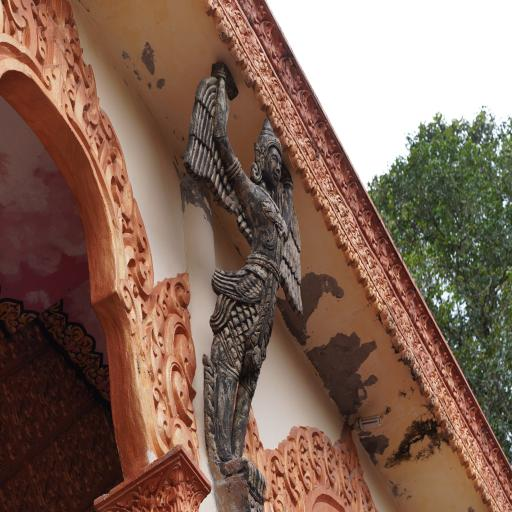la: (95, 98, 136, 223), (36, 0, 73, 113), (104, 463, 179, 512), (234, 6, 274, 94), (70, 46, 101, 150), (126, 196, 156, 303), (166, 312, 208, 381), (454, 407, 490, 485), (271, 82, 308, 157), (420, 343, 454, 422), (304, 138, 338, 211), (164, 351, 195, 426), (5, 0, 39, 65), (366, 243, 394, 318), (279, 435, 306, 509), (290, 422, 316, 492), (395, 294, 421, 364), (337, 202, 366, 264), (119, 278, 147, 340), (177, 453, 206, 512), (146, 320, 169, 391), (267, 446, 290, 512), (172, 415, 198, 468), (304, 424, 324, 491), (152, 384, 172, 449), (320, 430, 339, 498), (169, 264, 195, 313), (241, 401, 260, 468), (146, 293, 166, 349), (334, 439, 352, 500), (152, 269, 171, 323), (357, 472, 381, 512), (490, 469, 512, 512), (211, 5, 234, 44), (253, 72, 273, 112), (256, 439, 271, 492), (353, 249, 369, 291), (266, 100, 285, 135), (240, 52, 258, 88), (288, 139, 306, 173), (322, 200, 338, 235), (298, 160, 315, 192), (380, 303, 396, 332), (312, 180, 326, 212), (230, 34, 244, 64), (363, 272, 376, 304), (447, 426, 461, 455), (391, 325, 405, 353), (333, 220, 346, 250), (280, 124, 293, 152), (370, 290, 384, 316), (432, 399, 445, 426), (456, 441, 469, 468), (343, 237, 355, 266), (472, 467, 484, 496), (417, 372, 430, 398), (400, 338, 412, 366), (410, 356, 422, 384), (464, 455, 476, 482), (478, 478, 490, 505), (201, 0, 218, 18), (442, 414, 453, 440), (426, 386, 436, 408), (488, 493, 499, 512)
than: (179, 54, 304, 512)
